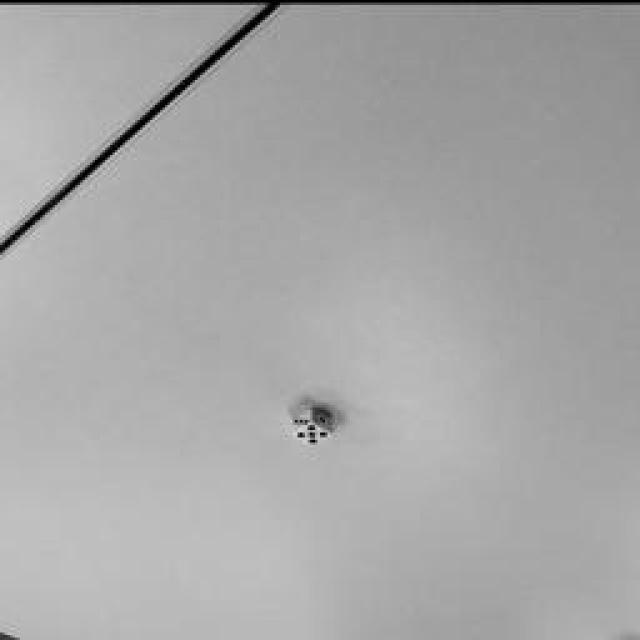dice_5: (292, 420, 332, 442)
